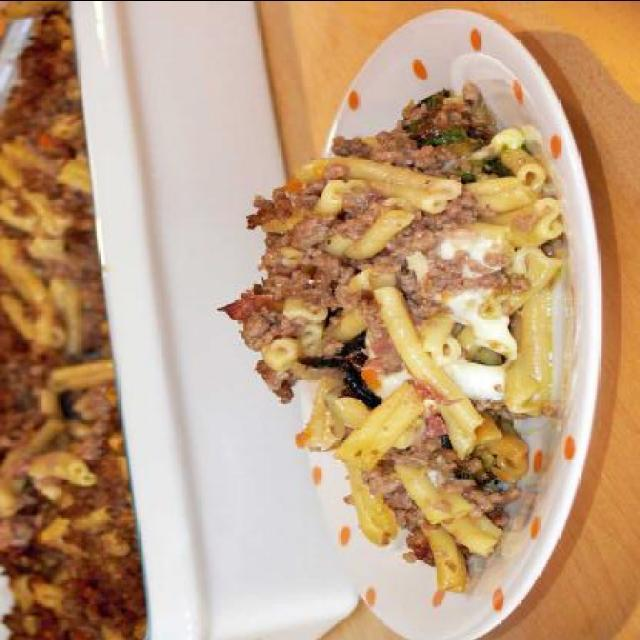Pasta al ragu: (204, 43, 572, 586)
